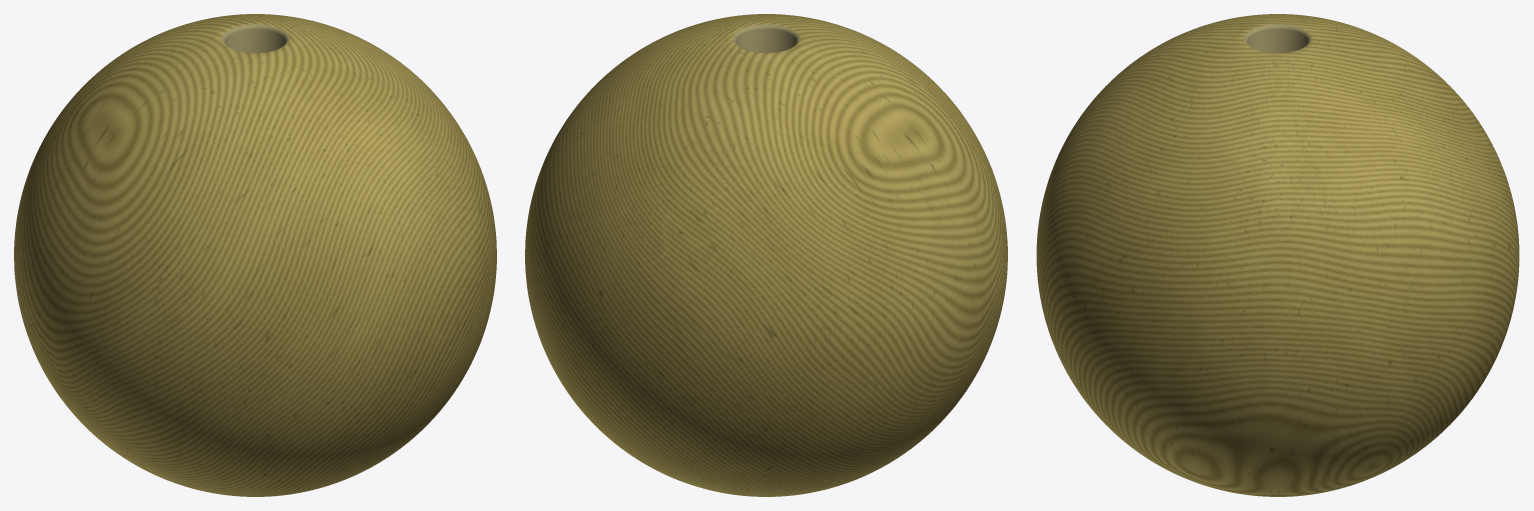
Rendered from golden-nanmu-8mm.glb.
3 renders of one model, left to right at view 1: azimuth 30°, elevation 25°; view 2: azimuth 150°, elevation 25°; view 3: azimuth 270°, elevation 25°, orthographic.
Visible parts, largest first — view 1: golden-nanmu; view 2: golden-nanmu; view 3: golden-nanmu.
Part boxes in pixels (x1,y1,x2,y2): golden-nanmu: [14, 14, 496, 496]; golden-nanmu: [525, 14, 1007, 496]; golden-nanmu: [1036, 14, 1519, 496].
Bounding box in the file's own units: 0.008 × 0.00792 × 0.008.
Materials: 2 (1 with a texture image).
